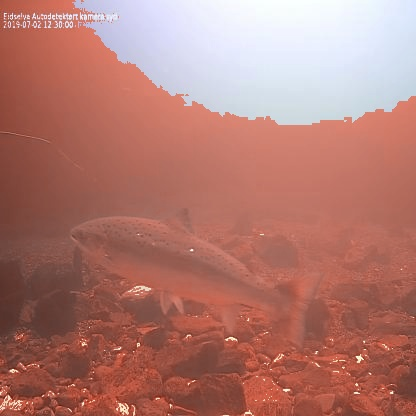salmon: (66, 204, 330, 359)
